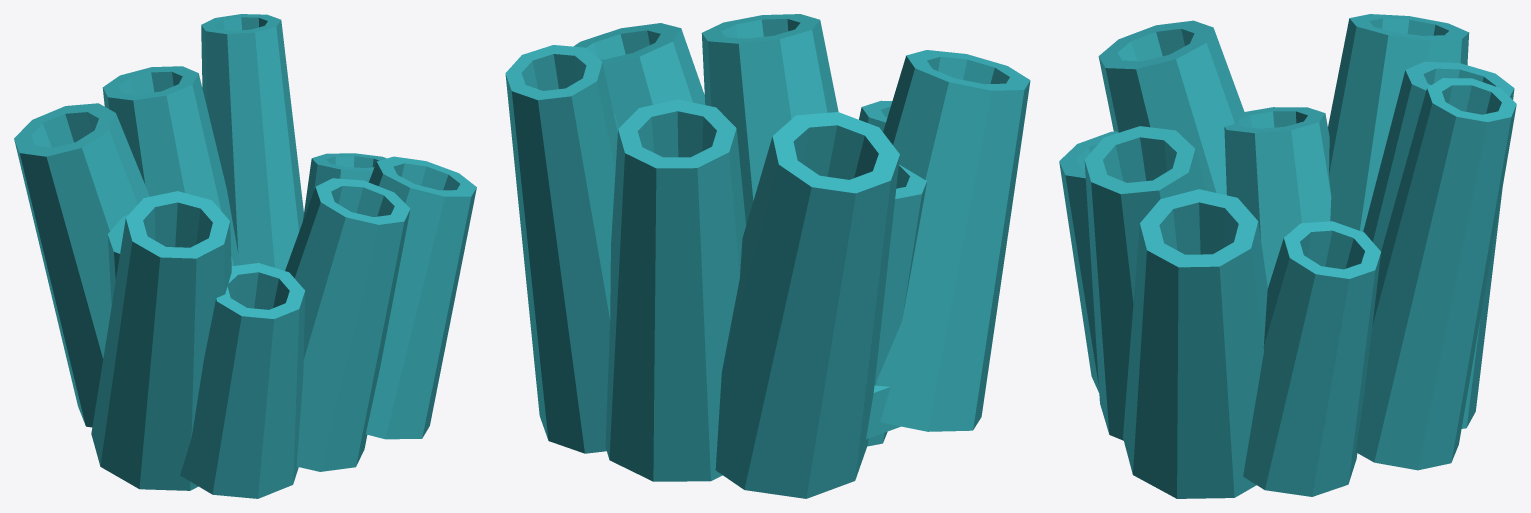
Rendered from coral_003b_tube.glb.
3 views of the same model, side by side, from view 1: azimuth 30°, elevation 25°; view 2: azimuth 150°, elevation 25°; view 3: azimuth 270°, elevation 25° (orthographic). The views are drawn at different scales.
Visible parts, largest first — view 1: coral_003b_tube__mesh; view 2: coral_003b_tube__mesh; view 3: coral_003b_tube__mesh.
Part boxes in pixels (box(x1,y1,x2,y2)): coral_003b_tube__mesh: box(14, 14, 476, 498); coral_003b_tube__mesh: box(505, 14, 1030, 498); coral_003b_tube__mesh: box(1059, 14, 1516, 498).
Bounding box in the file's own units: 0.9106 × 0.8036 × 0.8892.
